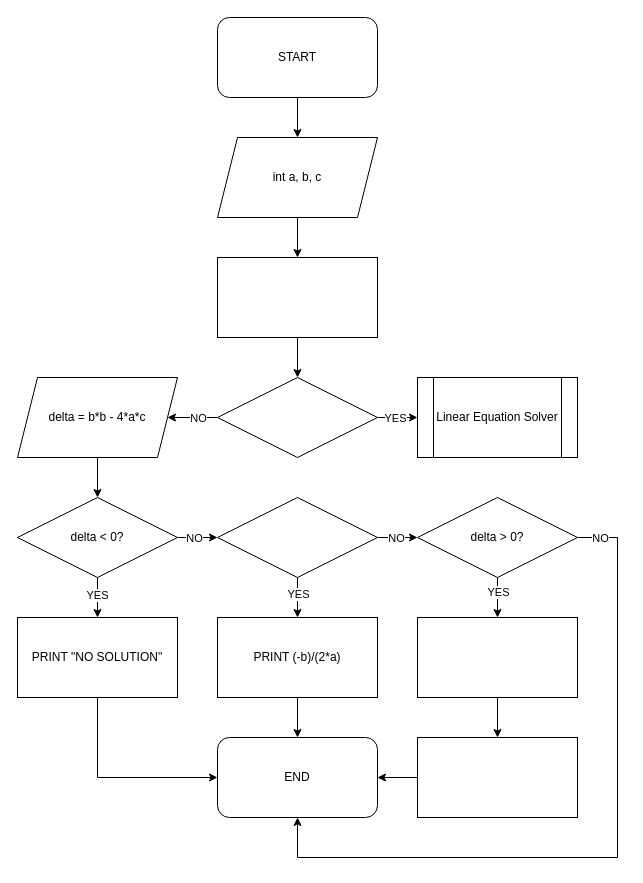
Image size: 643x883. Some labels were removed from this diagram. The shapes that lost their labels are listed below. From the top down, each one's box as (x1, y1, x2, y2) in pixels, then its label:
(216, 256, 378, 338): INPUT a, b, c
(216, 376, 378, 458): a == 0?
(216, 496, 378, 578): delta == 0?
(416, 616, 578, 698): PRINT [(-b) + sqrt(delta)]/2*a
(416, 736, 578, 818): PRINT [(-b) - sqrt(delta)]/2*a
